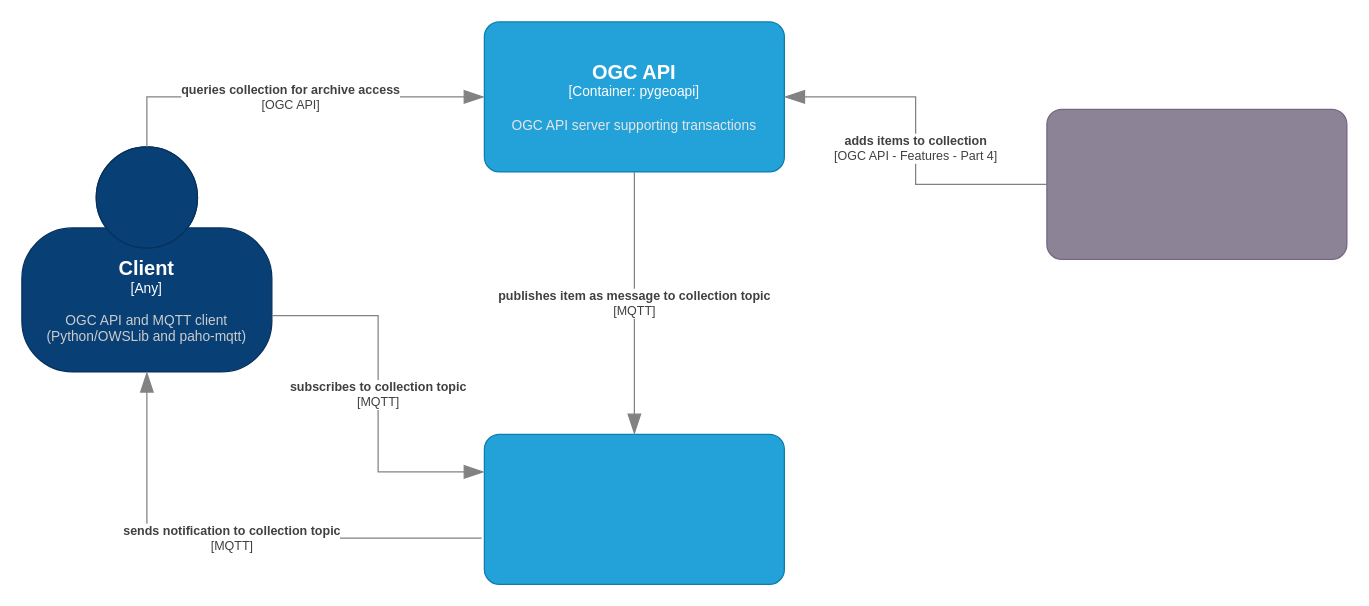
Image size: 1369x606. Some labels were removed from this diagram. Each missing label, with the centre of its shape:
"Data production [Software System] Description of external software system." goes at [1196,183].
"Pub/Sub Message Broker [Container: mosquitto] Provides Pub/Sub capability" goes at [633,508].
